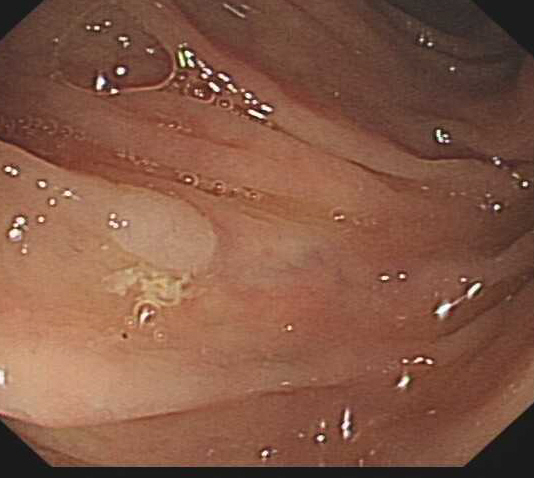others: (87, 185, 218, 276)
